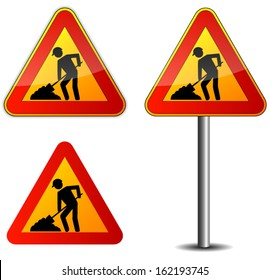caution: (4, 7, 126, 117), (143, 8, 267, 116), (7, 141, 123, 244)
